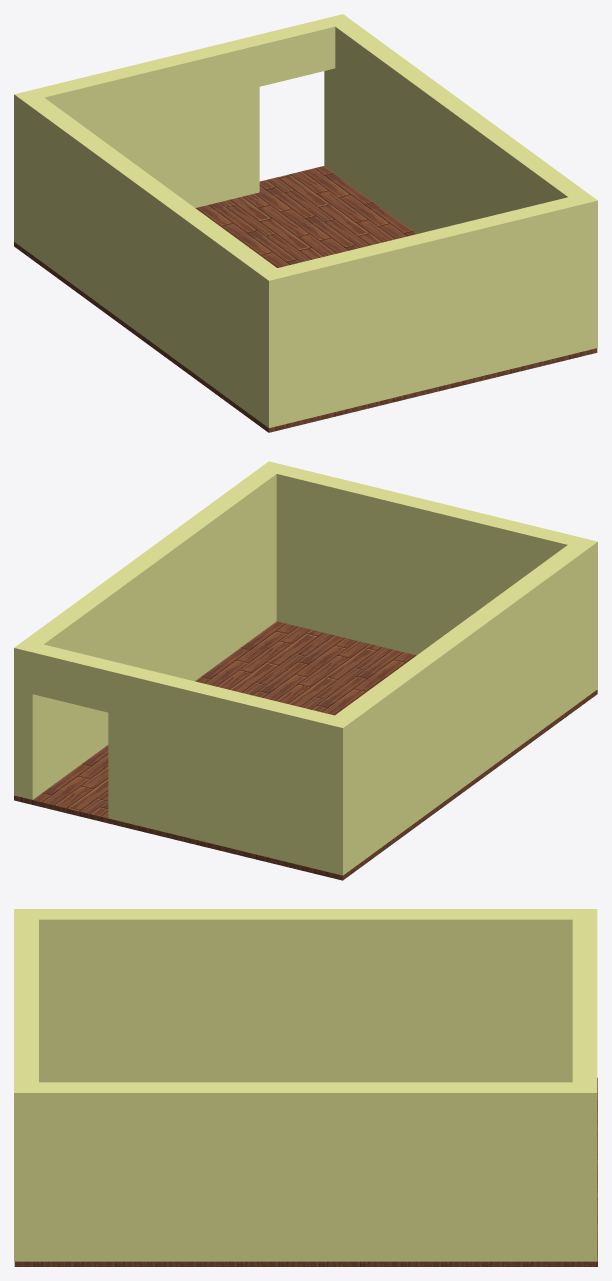
Rendered from escenario.fbx.
3 views of the same model, one above another, from view 1: azimuth 30°, elevation 25°; view 2: azimuth 150°, elevation 25°; view 3: azimuth 270°, elevation 25° (orthographic). The views are drawn at different scales.
Visible parts, largest first — view 1: paredes, piso; view 2: paredes, piso; view 3: paredes, piso.
Boxes of the visible parts, x1=… form: paredes: x1=14, y1=14, x2=597, y2=427; piso: x1=14, y1=166, x2=597, y2=432; paredes: x1=14, y1=461, x2=597, y2=875; piso: x1=14, y1=621, x2=597, y2=880; paredes: x1=14, y1=909, x2=597, y2=1261; piso: x1=14, y1=1077, x2=597, y2=1266.
Bounding box in the file's own units: 701 × 310 × 941.
Materials: 2 (1 with a texture image).
